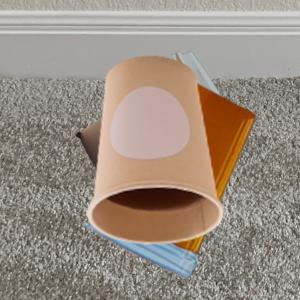cup: (86, 56, 223, 246)
